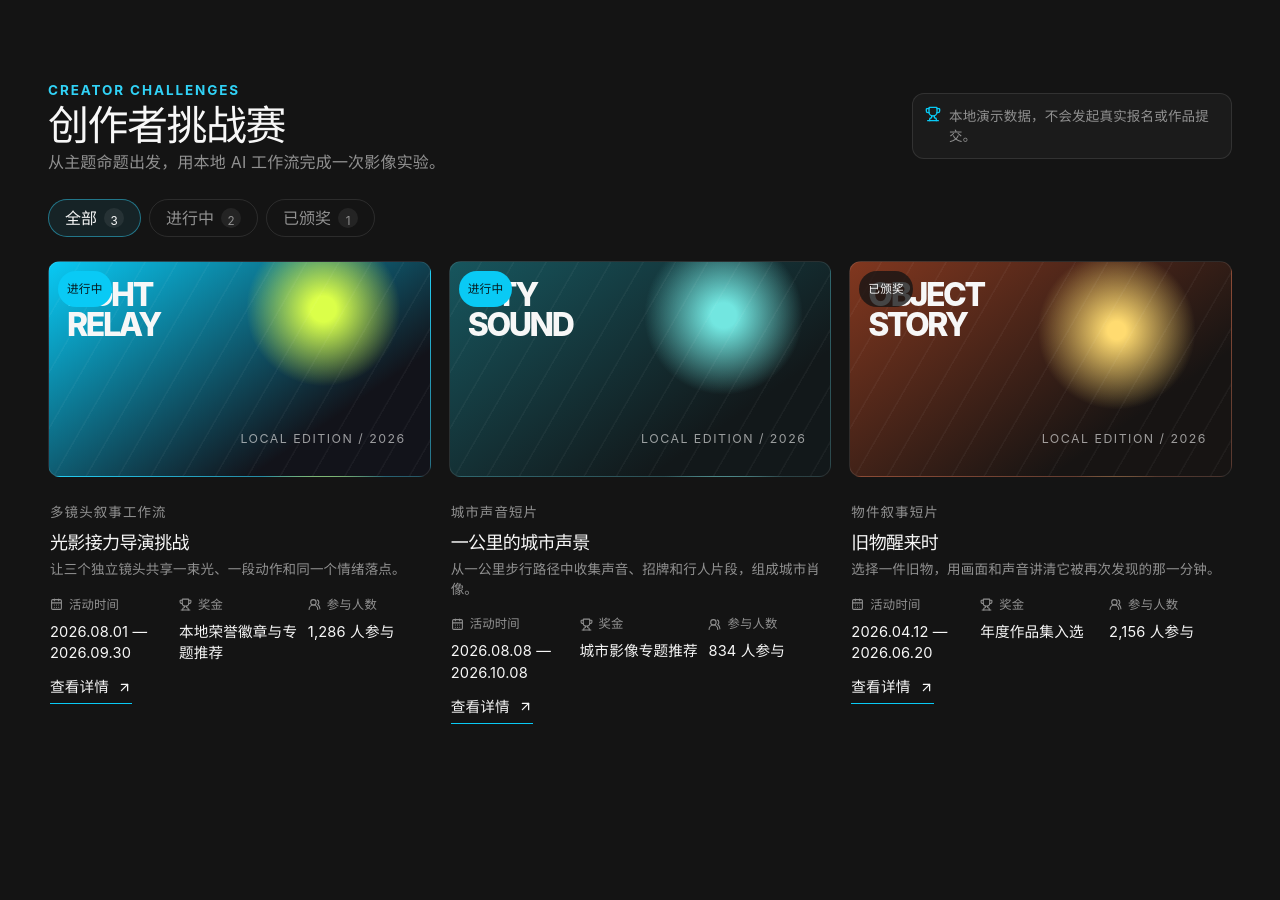
Test case: creator challenges › shows compact local challenge cards with counted status filters and one clear card link
The image size is (1280, 900).
expect the heading "创作者挑战赛" is shown: met, box left=48, top=96, right=285, bottom=152
expect the text "本地演示数据，不会发起真实报名或作品提交。" is shown: met, box left=949, top=106, right=1219, bottom=146
What coordinates should you click on to do the following:
click the button "已颁奖 1"
I would click on:
 (320, 218)
Its box is left=266, top=199, right=375, bottom=237.
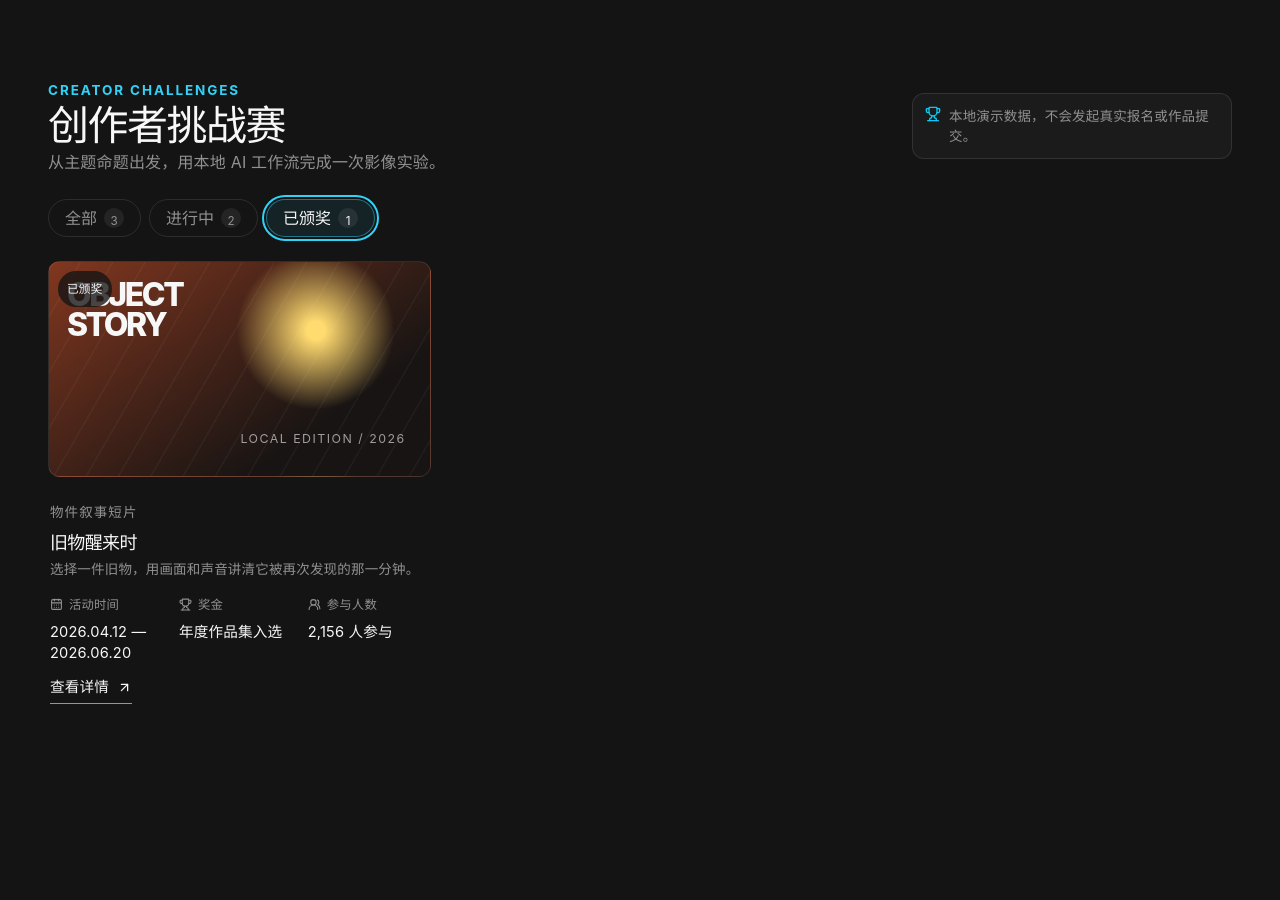
expect the heading "旧物醒来时" is shown: met, box left=50, top=530, right=137, bottom=554
expect the link "光影接力导演挑战" is gone: met
